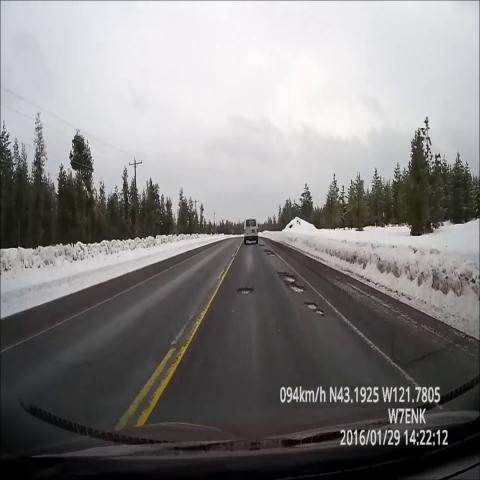pothole: (275, 266, 310, 301), (301, 298, 327, 324), (231, 280, 259, 303), (262, 245, 283, 262), (258, 238, 268, 251)
